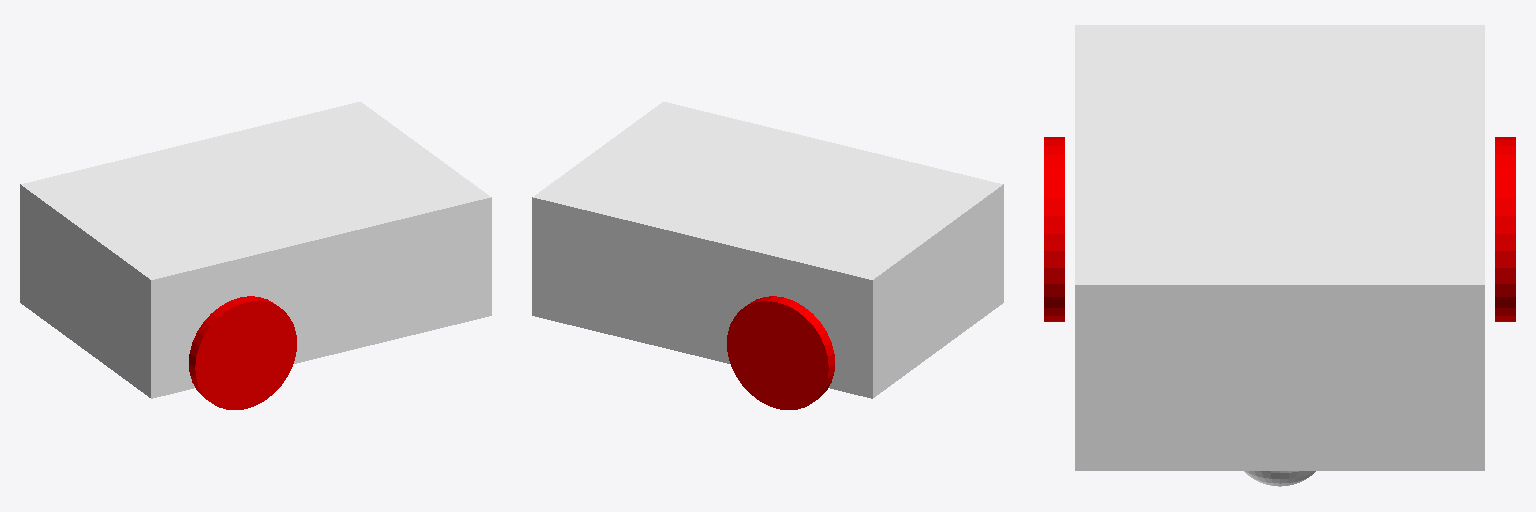
URDF robot description (dd_robot):
<?xml version='1.0'?>

<robot name="dd_robot">
  <!-- motor controller-->
  <gazebo>
    <plugin name="differential_drive_controller" filename="libgazebo_ros_diff_drive.so">
      <alwaysOn>true</alwaysOn>
      <legacyMode>false</legacyMode>
      <updateRate>50</updateRate>
      <leftJoint>joint_left_wheel</leftJoint>
      <rightJoint>joint_right_wheel</rightJoint>
      <wheelSeparation>0.2</wheelSeparation>
      <!-- L = 0.2 m  -->
      <wheelDiameter>0.09</wheelDiameter>
      <!-- 2R = 0.09 -->
      <torque>2</torque>
      <commandTopic>/cmd_vel</commandTopic>
      <odometryTopic>odom</odometryTopic>
      <odometryFrame>odom</odometryFrame>
      <robotBaseFrame>base_link</robotBaseFrame>
    </plugin>
  </gazebo>
  <!-- Base Link -->
  <link name="base_link">
    <visual>
      <origin xyz="0 0 0.07" rpy="0 0 0" />
      <geometry>
        <box size="0.3 0.2 0.1" />
      </geometry>
      <material name="white">
        <color rgba="1 1 1 1" />
      </material>
    </visual>
    <!-- Base collision, mass and inertia -->
    <collision>
      <origin xyz="0 0 0" rpy="0 0 0" />
      <geometry>
        <box size="0.3 0.2 0.1" />
      </geometry>
    </collision>
    <!-- <inertial>
      <mass value="1" />
      <inertia ixx="0.00167" ixy="0.0" ixz="0.0" iyy="0.00250" iyz="0.0" izz="0.00333" />
    </inertial> -->


  </link>

  <gazebo reference="base_link">
    <material>Gazebo/White</material>
    <!-- <pose>0 0 0 0 0 0</pose> -->
  </gazebo>

  <!-- Caster -->
  <link name="caster">
    <visual name="caster">
      <origin xyz="0 0 0" rpy="0 0 0" />
      <geometry>
        <sphere radius="0.025" />
      </geometry>
      <material name="black">
        <color rgba="1 1 1 1" />
      </material>
    </visual>
    <!-- Caster collision, mass and inertia -->
    <collision>
      <!-- <origin xyz="0.12 0 -0.075" rpy="0 0 0" /> -->
      <origin xyz="0 0 0" rpy="0 0 0" />
      <geometry>
        <sphere radius="0.025" />
      </geometry>
    </collision>
    <!-- <inertial>
      <mass value="0.5" />
      <inertia ixx="0.000125" ixy="0.0" ixz="0.0" iyy="0.000125" iyz="0.0" izz="0.000125" />
    </inertial> -->
  </link>

  <!-- caster joint -->
  <joint name="caster_joint" type="fixed">
    <parent link="base_link" />
    <child link="caster" />
    <origin xyz="0.12 0 0.025" rpy="0 0 0" />
    <axis xyz="0 0 0" />
  </joint>


  <gazebo reference="caster">
    <material>Gazebo/Black</material>
    <!-- <pose>0 0 3 0 0 0</pose> -->
    <!-- <mu1 value="0.001" />
    <mu2 value="0.001" /> -->
  </gazebo>


  <!-- Right Wheel -->
  <link name="right_wheel">
    <visual>
      <origin xyz="0 0 0" rpy="1.570795 0 0" />
      <geometry>
        <cylinder length="0.01" radius="0.045" />
      </geometry>
      <material name="red">
        <color rgba="1 0 0 1" />
      </material>
    </visual>
    <!-- Right Wheel collision, mass and inertia -->
    <collision>
      <origin xyz="0 0 0" rpy="1.570795 0 0" />
      <geometry>
        <cylinder length="0.01" radius="0.045" />
      </geometry>
    </collision>
    <!-- <inertial>
      <mass value="0.5" />
      <inertia ixx="0.000257292" ixy="0.0" ixz="0.0" iyy="0.000084375" iyz="0.0" izz="0.00050625" />

    </inertial> -->

  </link>
  <gazebo reference="right_wheel">
    <material>Gazebo/Red</material>
  </gazebo>

  <!-- Right Wheel joint -->
  <joint name="joint_right_wheel" type="continuous">
    <parent link="base_link" />
    <child link="right_wheel" />
    <origin xyz="-0.075 -0.11 0.045" rpy="0 0 0" />
    <axis xyz="0 1 0" />
  </joint>

  <!-- Left Wheel -->
  <link name="left_wheel">
    <visual>
      <origin xyz="0 0 0" rpy="1.570795 0 0" />
      <geometry>
        <cylinder length="0.01" radius="0.045" />
      </geometry>
      <material name="red">
        <color rgba="1 0 0 1" />
      </material>
    </visual>
    <!-- Left Wheel collision, mass and inertia -->
    <collision>
      <origin xyz="0 0 0" rpy="1.570795 0 0" />
      <geometry>
        <cylinder length="0.01" radius="0.045" />
      </geometry>
    </collision>
    <!-- <inertial>
      <mass value="0.5" />
      <inertia ixx="0.01" ixy="0.0" ixz="0.0" iyy="0.005" iyz="0.0" izz="0.005"/>
      <inertia ixx="0.000257292" ixy="0.0" ixz="0.0" iyy="0.000084375" iyz="0.0" izz="0.00050625" />

    </inertial> -->
  </link>

  <gazebo reference="left_wheel">
    <material>Gazebo/Red</material>
  </gazebo>
  <!-- Left Wheel joint -->
  <joint name="joint_left_wheel" type="continuous">
    <parent link="base_link" />
    <child link="left_wheel" />
    <origin xyz="-0.075 0.11 0.045" rpy="0 0 0" />
    <axis xyz="0 1 0" />
  </joint>

</robot>

--- What the picture shows (computed from the rendered views, not written in the file) ---
The picture shows the robot from 3 angles, left to right: view 1: azimuth 30°, elevation 25°; view 2: azimuth 150°, elevation 25°; view 3: azimuth 270°, elevation 25°; orthographic projection.
Model dd_robot with 4 links and 3 joints (2 continuous, 1 fixed), rooted at base_link, posed all joints at 0.
Visible links, largest first — view 1: base_link, right_wheel; view 2: base_link, left_wheel; view 3: base_link, right_wheel, left_wheel, caster.
Link boxes in pixels (box(x1,y1,x2,y2)): base_link: box(20, 102, 491, 398); right_wheel: box(189, 296, 296, 409); base_link: box(532, 102, 1003, 398); left_wheel: box(727, 296, 834, 409); base_link: box(1075, 25, 1484, 470); right_wheel: box(1044, 137, 1064, 321); left_wheel: box(1495, 137, 1515, 321); caster: box(1244, 471, 1315, 486).
Bounding box of the posed robot: 0.3 × 0.23 × 0.12 m (x, y, z).
Geometry: primitives only (box / cylinder / sphere), no mesh files.